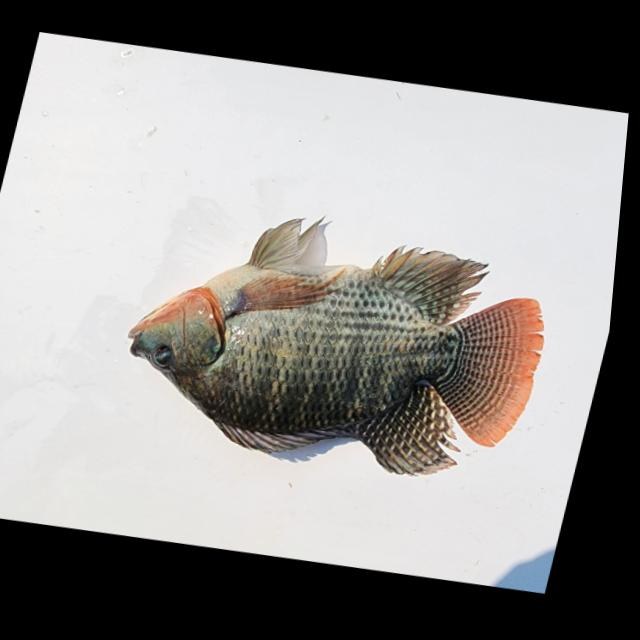Tilapia: (96, 183, 576, 500)
